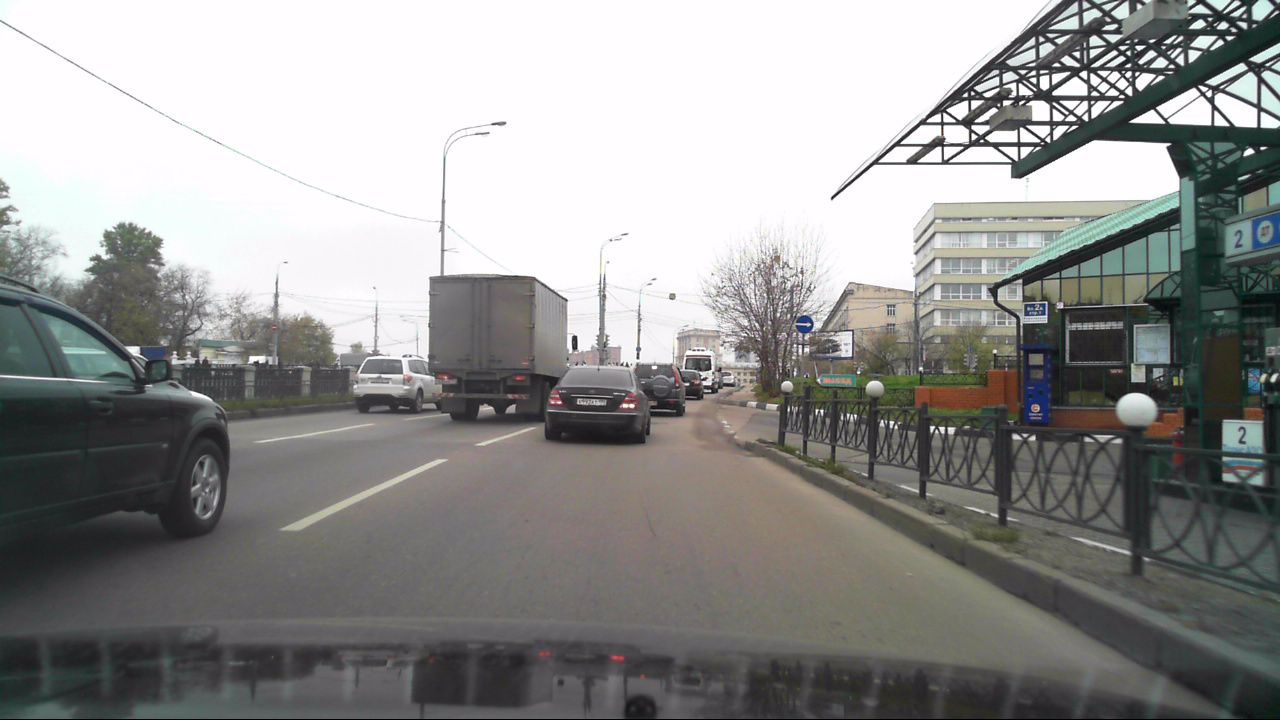Turn Right: (795, 316, 814, 334)
